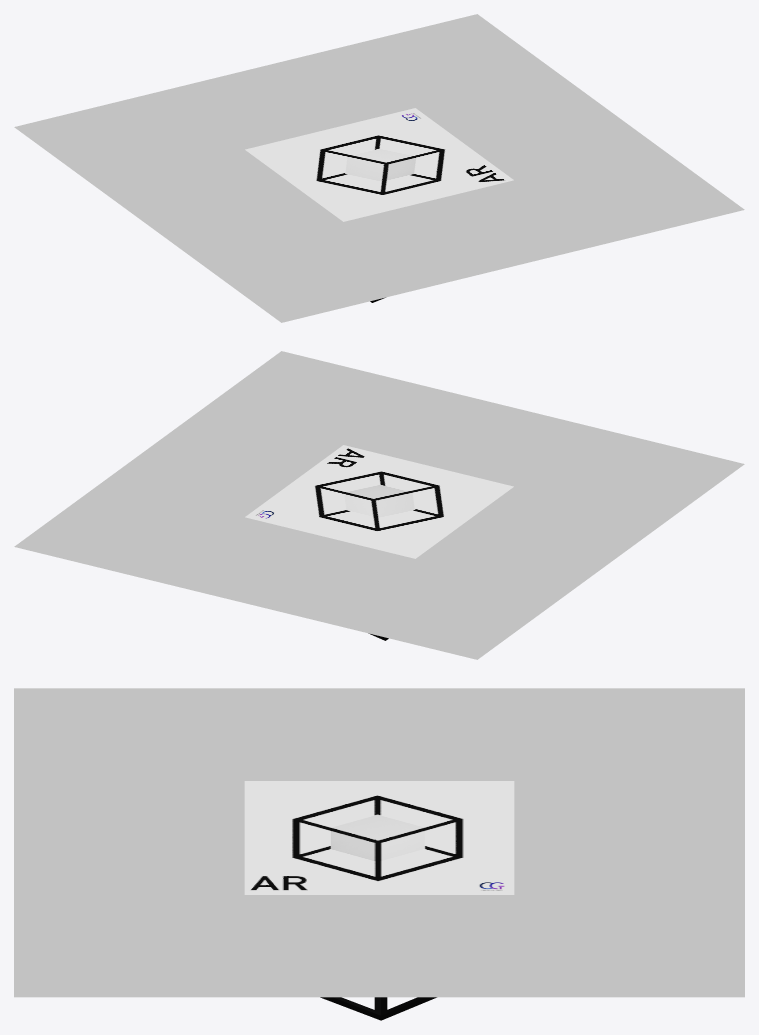
File: armodel.glb
3 renders of one model, top to bottom at view 1: azimuth 30°, elevation 25°; view 2: azimuth 150°, elevation 25°; view 3: azimuth 270°, elevation 25°, orthographic. The views are drawn at different scales.
Parts seen in each view (by area): view 1: Plane, arlogo3; view 2: Plane, arlogo3; view 3: Plane, arlogo3, Cube.
Boxes of the visible parts, <box> form: Plane: <box>14,14,744,322</box>; arlogo3: <box>245,108,513,221</box>; Plane: <box>14,351,744,659</box>; arlogo3: <box>245,445,513,558</box>; Plane: <box>14,688,744,997</box>; arlogo3: <box>244,781,514,894</box>; Cube: <box>320,997,436,1020</box>.
Bounding box in the file's own units: 5.46 × 1.54 × 5.46.
4 materials, 1 textured.
